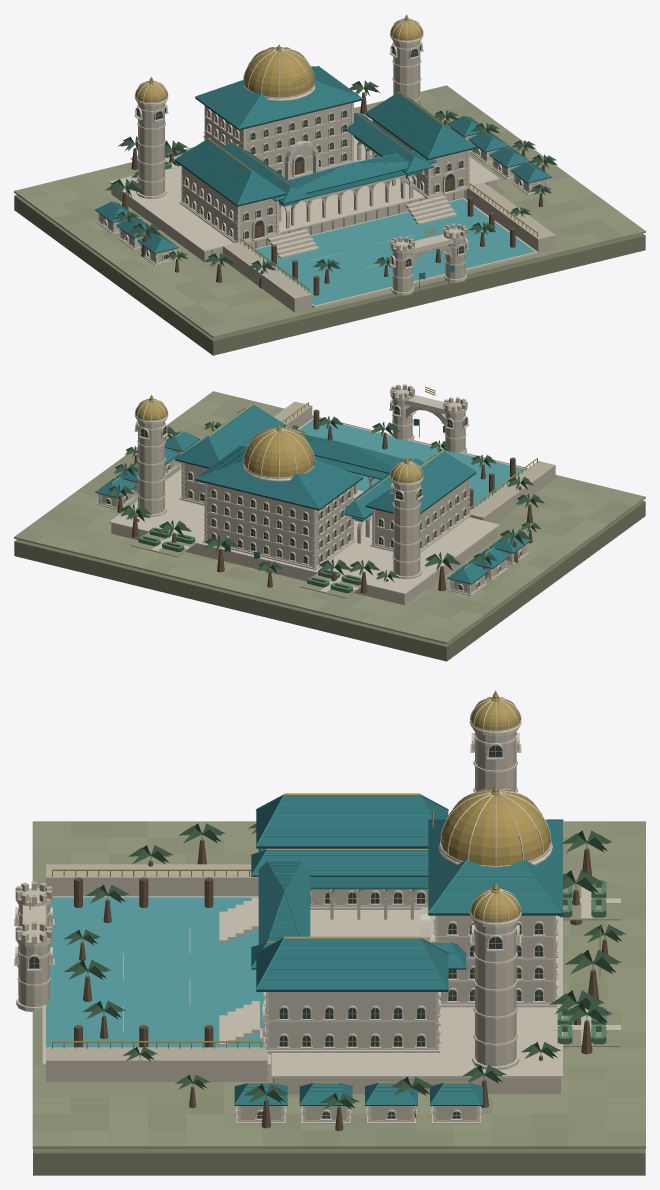
The model's file is lagoon.glb.
The picture shows the model from 3 angles, top to bottom: view 1: azimuth 30°, elevation 25°; view 2: azimuth 150°, elevation 25°; view 3: azimuth 270°, elevation 25°; orthographic projection. The views are drawn at different scales.
Parts seen in each view (by area): view 1: site, basin, chancery, chancery-roof, loggias-roof, landscape, water-garden, landscape-roof, loggias, water-garden-roof; view 2: site, chancery, basin, chancery-roof, landscape, water-garden, loggias-roof, landscape-roof, water-garden-roof; view 3: site, basin, chancery-roof, chancery, landscape, loggias-roof, water-garden, landscape-roof, water-garden-roof, loggias.
Part boxes in pixels (box(x1,y1,x2,y2)): site: box(14, 85, 645, 355); basin: box(109, 118, 555, 312); chancery: box(134, 38, 470, 243); chancery-roof: box(134, 14, 476, 206); loggias-roof: box(223, 112, 436, 206); landscape: box(96, 110, 557, 288); water-garden: box(118, 80, 468, 295); landscape-roof: box(95, 115, 551, 253); loggias: box(279, 138, 415, 228); water-garden-roof: box(390, 223, 467, 251); site: box(14, 391, 645, 661); chancery: box(134, 418, 470, 579); basin: box(109, 401, 555, 605); chancery-roof: box(134, 395, 476, 513); landscape: box(96, 416, 544, 595); water-garden: box(120, 388, 468, 598); loggias-roof: box(290, 427, 424, 521); landscape-roof: box(95, 430, 530, 584); water-garden-roof: box(390, 384, 467, 411); site: box(32, 821, 645, 1175); basin: box(42, 864, 562, 1093); chancery-roof: box(255, 690, 563, 991); chancery: box(260, 726, 558, 1070); landscape: box(64, 823, 625, 1130); loggias-roof: box(251, 848, 466, 969); water-garden: box(14, 830, 620, 1054); landscape-roof: box(234, 1082, 483, 1105); water-garden-roof: box(15, 881, 52, 943); loggias: box(310, 889, 440, 1008).
Bounding box in the file's own units: 59.01 × 19.42 × 48.48.
